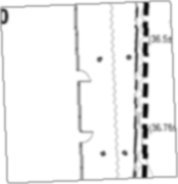door: (77, 128, 94, 145), (75, 68, 93, 84)
